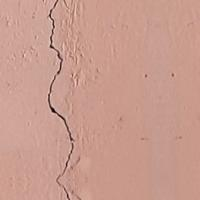crack: (29, 0, 96, 199)
